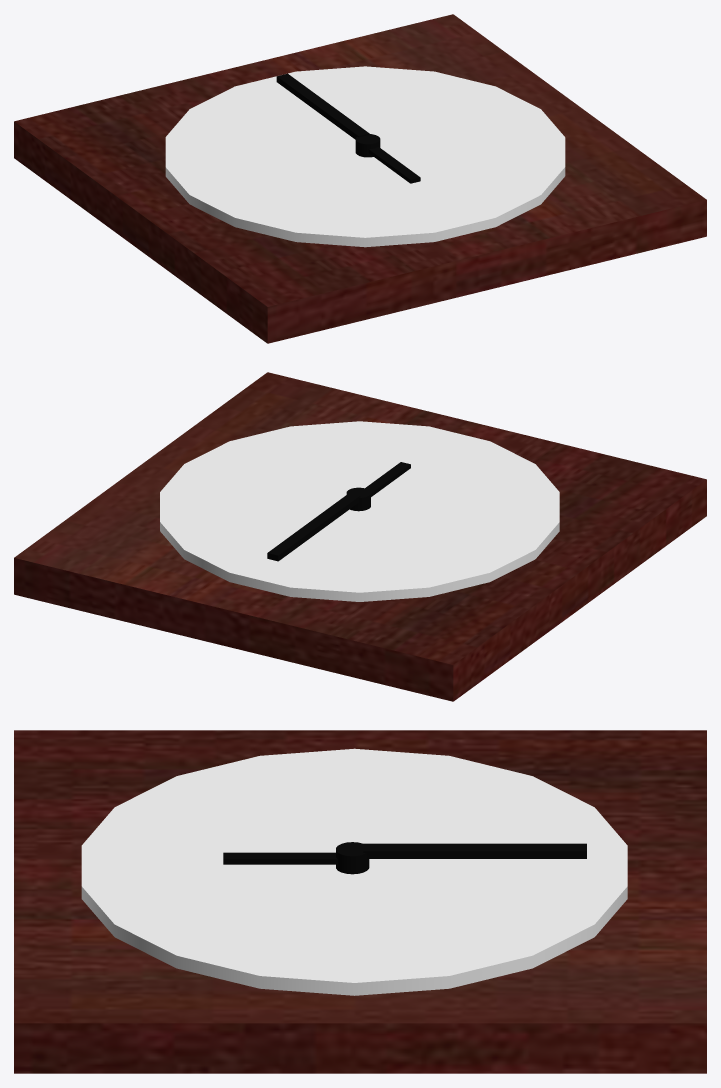
File: riddleObj-2.FBX
3 views of the same model, one above another, from view 1: azimuth 30°, elevation 25°; view 2: azimuth 150°, elevation 25°; view 3: azimuth 270°, elevation 25° (orthographic). The views are drawn at different scales.
Parts seen in each view (by area): view 1: Box001; view 2: Box001; view 3: Box001.
Part boxes in pixels (box(x1,y1,x2,y2)): Box001: box(14, 14, 706, 343); Box001: box(14, 372, 706, 701); Box001: box(14, 730, 706, 1073).
Bounding box in the file's own units: 19.69 × 2.59 × 19.69.
1 material, 1 textured.
